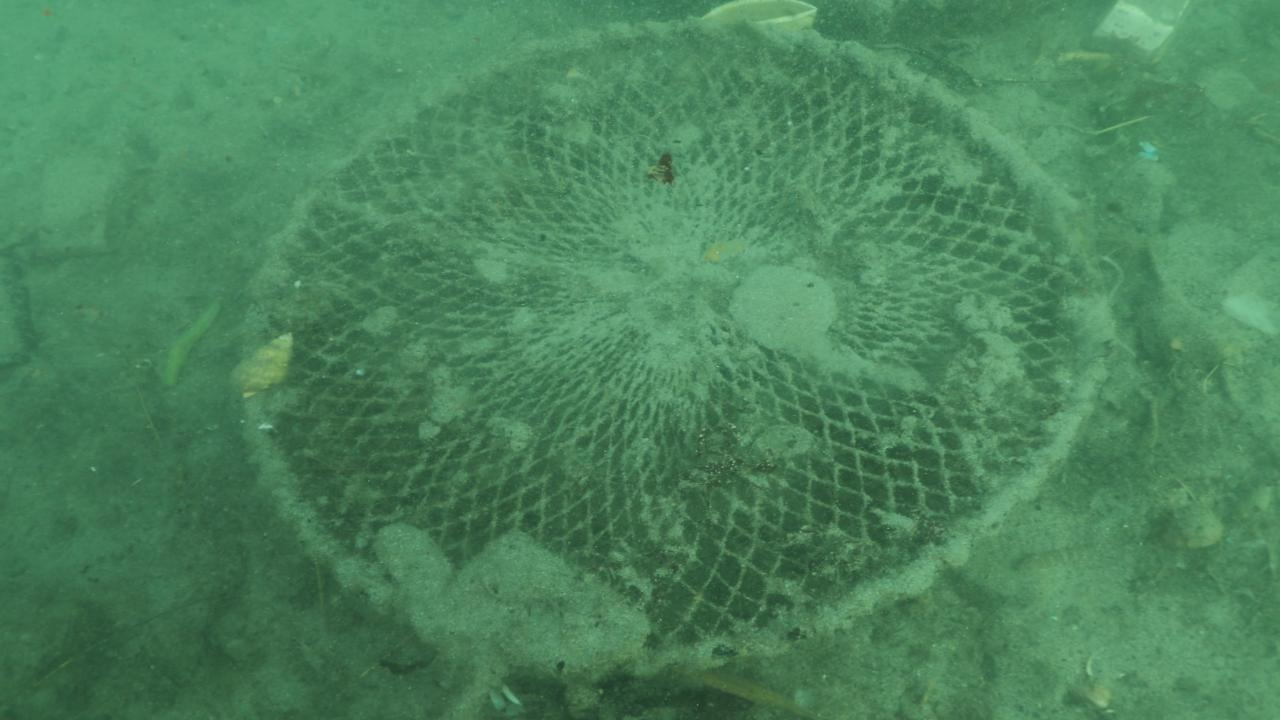circular fish trap: (232, 15, 1117, 682)
